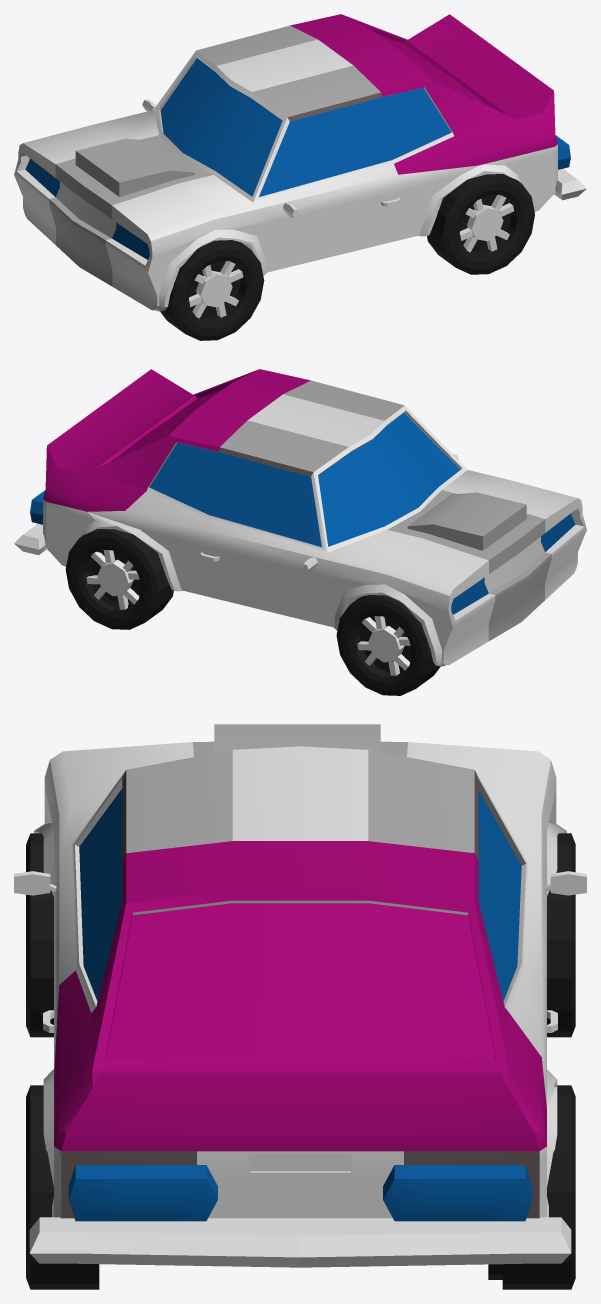
File: car_4.fbx
The picture shows the model from 3 angles, top to bottom: view 1: azimuth 30°, elevation 25°; view 2: azimuth 150°, elevation 25°; view 3: azimuth 270°, elevation 25°; orthographic projection. The views are drawn at different scales.
Parts seen in each view (by area): view 1: polySurface758; view 2: polySurface758; view 3: polySurface758.
Part boxes in pixels (x1,y1,x2,y2): polySurface758: (14,14,586,340); polySurface758: (14,369,586,695); polySurface758: (14,724,586,1289).
Bounding box in the file's own units: 339 × 137 × 197.
